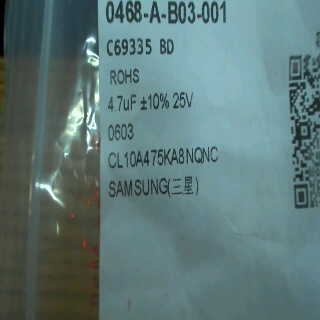4.7uF: (107, 92, 139, 115)
